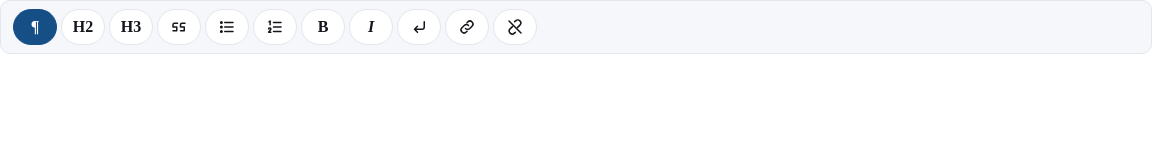
it: corrects local URL errors without invalidating an unchanged empty body
Click the button named "Insert link" at [467, 27], box [445, 9, 489, 45]
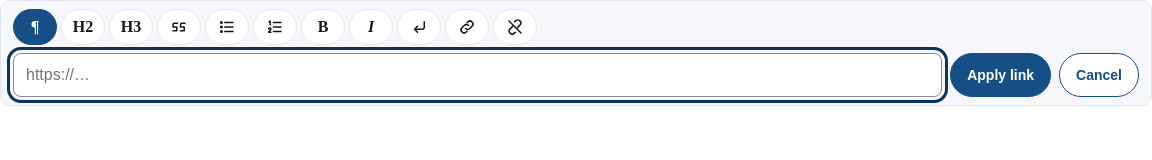
Type "javascript:bad" into the field named "Link URL" at [478, 75], box [13, 53, 942, 97]
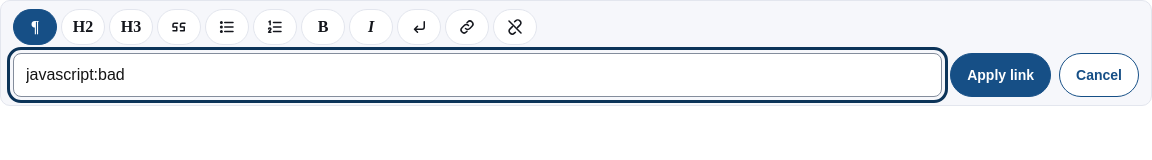
Click the button "Apply link" at [1001, 75], box [950, 53, 1051, 97]
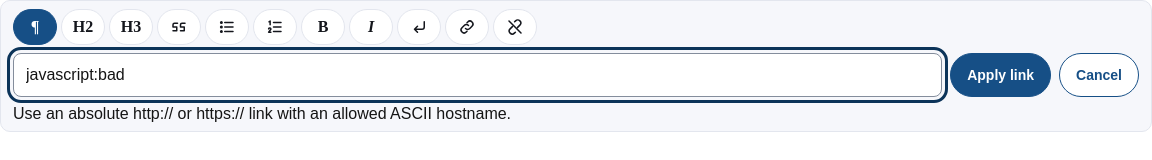
Now the message "Use an absolute http:// or https:// link with an allowed ASCII hostname." is shown, box [13, 105, 511, 122]
Clear the field named "Link URL" at [478, 75], box [13, 53, 942, 97]
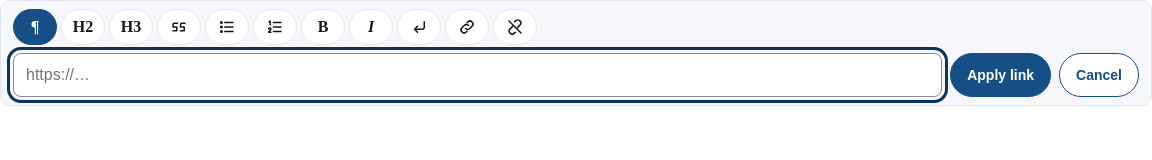
Now the message "Use an absolute http:// or https:// link with an allowed ASCII hostname." is gone
Type "https://example.com" into the field named "Link URL" at [478, 75], box [13, 53, 942, 97]
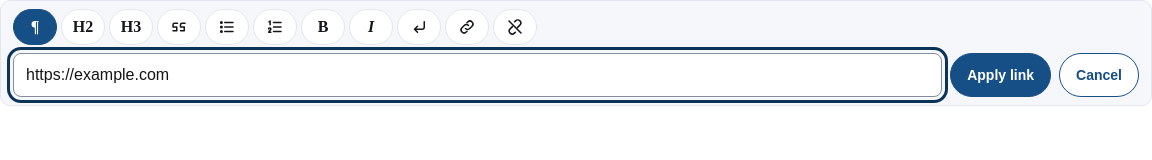
Click the button "Apply link" at [1001, 75], box [950, 53, 1051, 97]
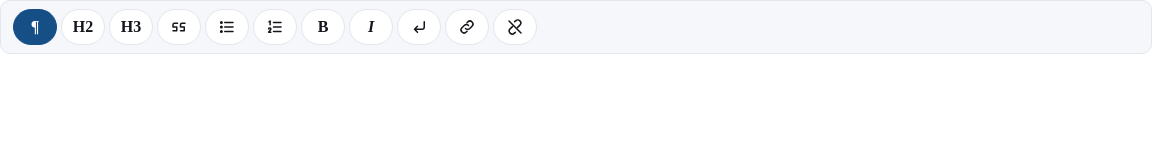
Now the field labelled "Link URL" is gone
